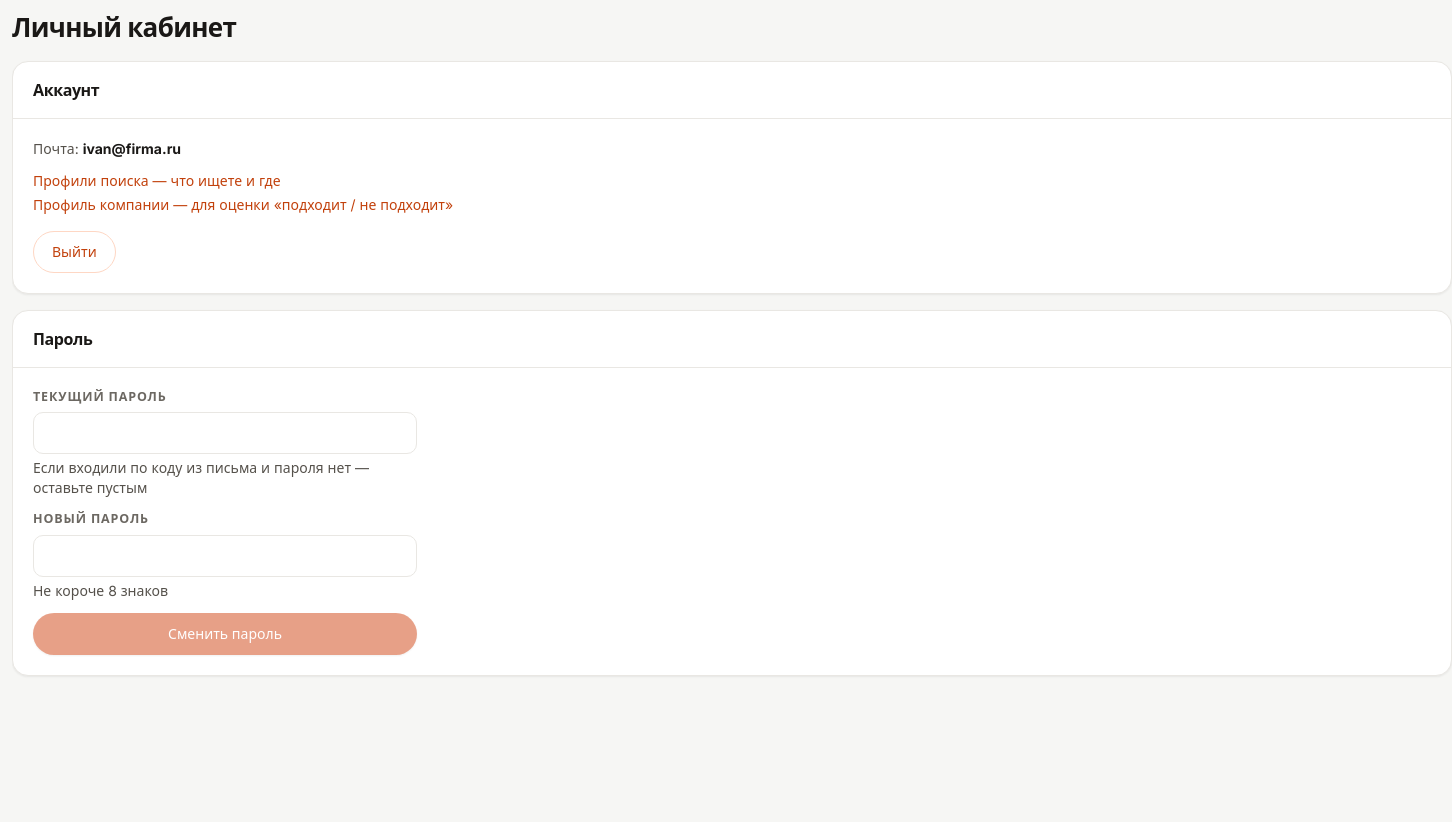
Test case: AccountView › смена пароля уходит на сервер и сообщает об успехе
Expected: the text "ivan@firma.ru" is shown, [83,140,181,156]
Type "старый-пароль-1" into the password field labelled "Текущий пароль".
click(225, 433); type("старый-пароль-1")  # box [33,412,417,454]
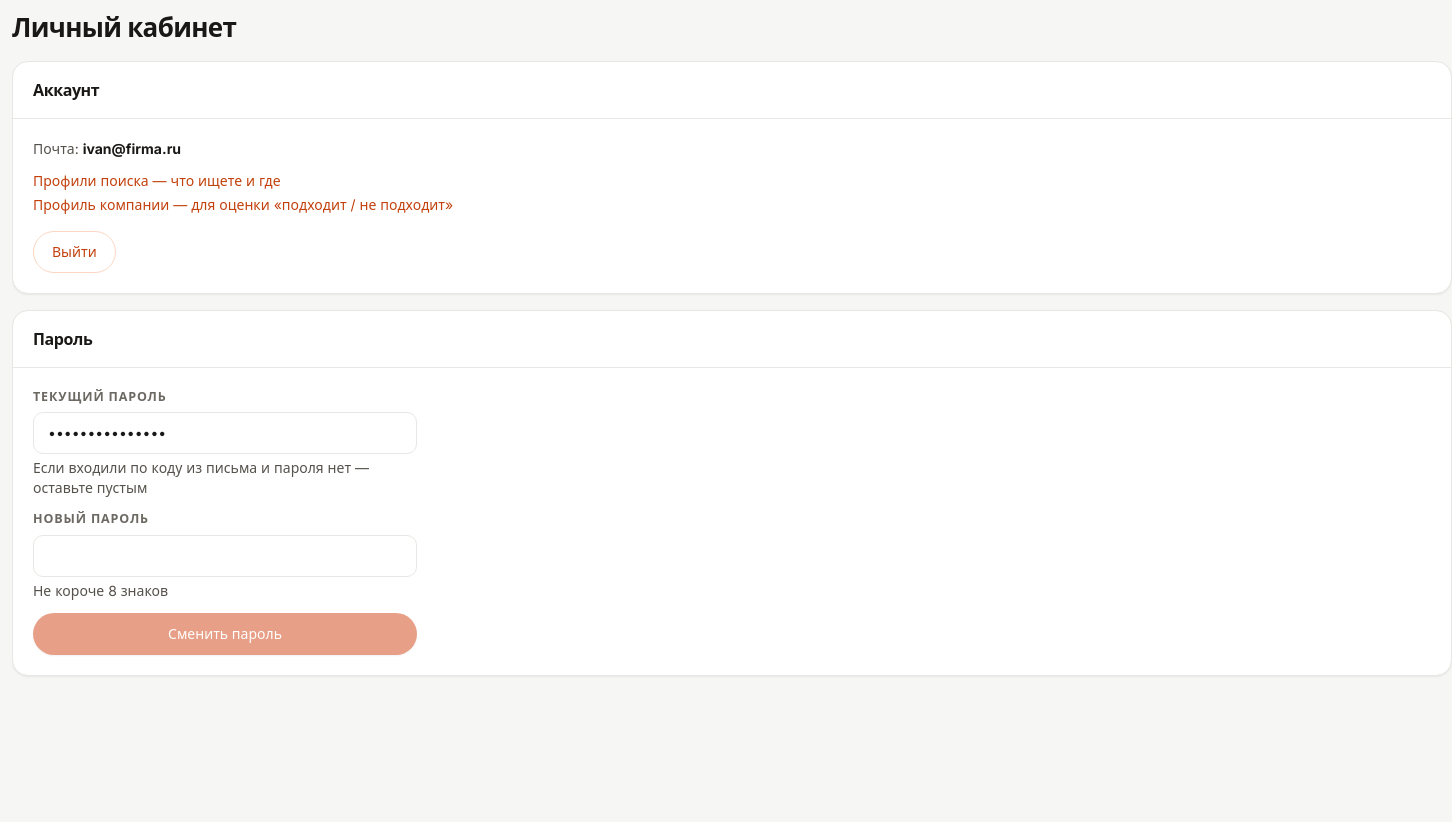
Type "новый-пароль-2" into the password field labelled "Новый пароль".
click(225, 556); type("новый-пароль-2")  # box [33,535,417,577]
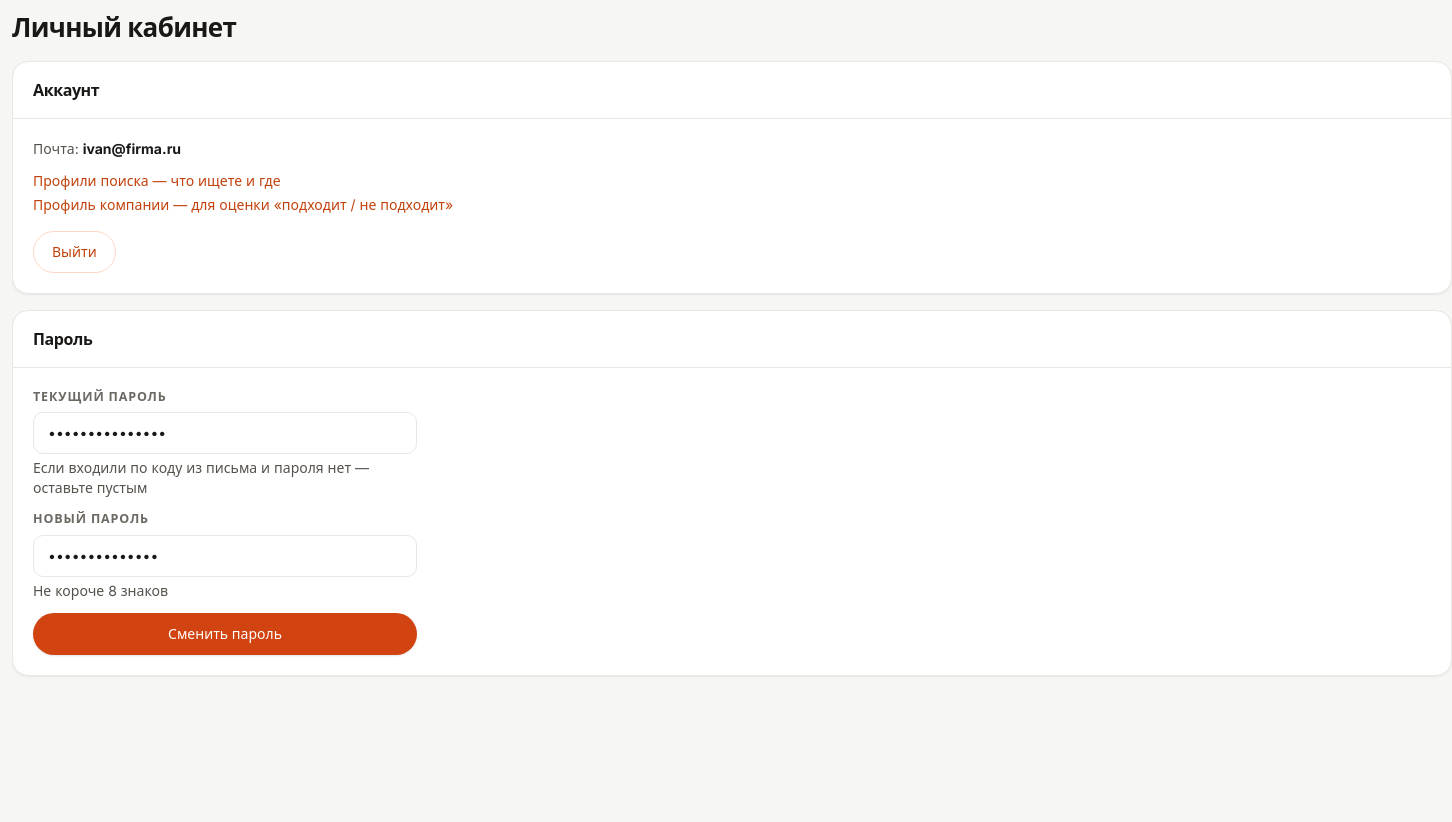
Click the button "Сменить пароль".
click(225, 634)  # box [33,613,417,655]
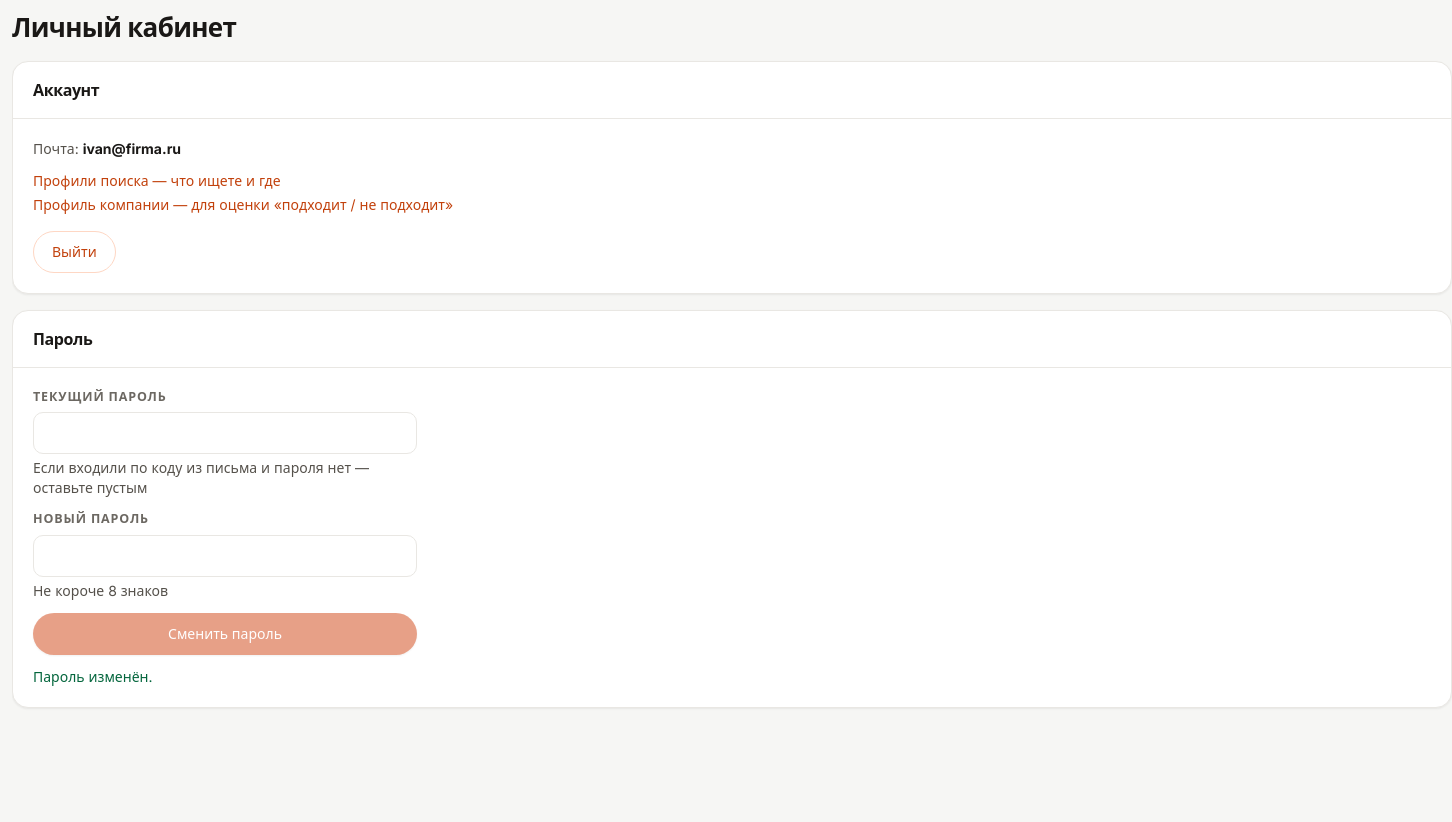
Result: the text "Пароль изменён." is shown at [33,668,152,685]
